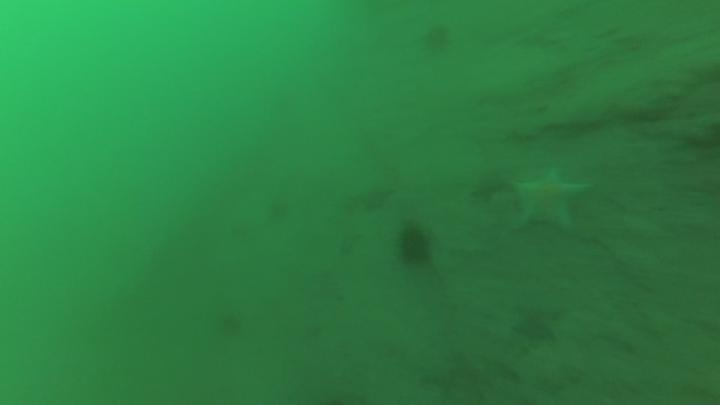echinus: (393, 220, 436, 270), (419, 21, 455, 56), (212, 308, 247, 341), (264, 194, 293, 224)
starfish: (508, 164, 593, 235), (508, 297, 566, 346)
